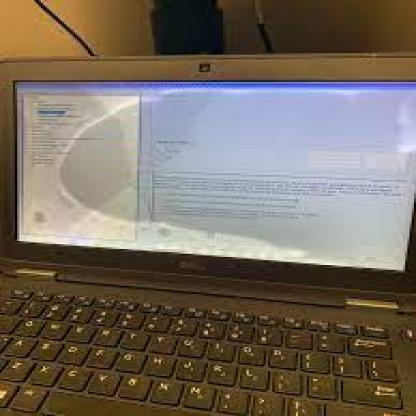fade: (13, 84, 414, 274)
